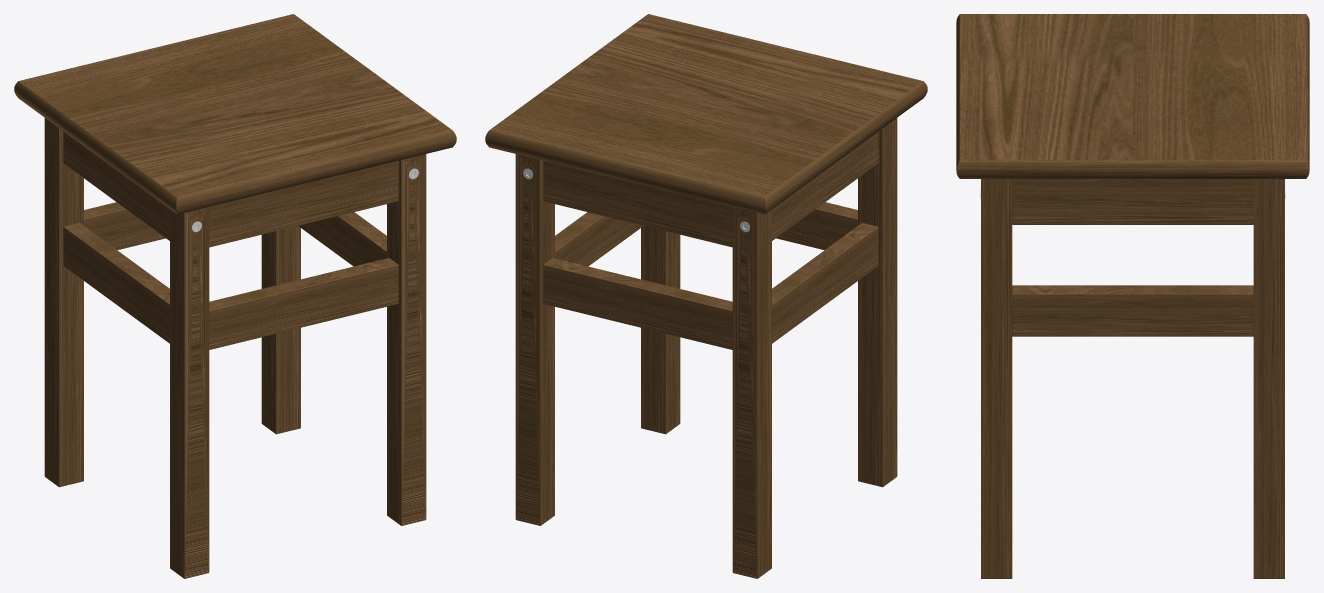
Rendered from Odvar__FBX_textured.fbx.
The picture shows the model from 3 angles, left to right: view 1: azimuth 30°, elevation 25°; view 2: azimuth 150°, elevation 25°; view 3: azimuth 270°, elevation 25°; orthographic projection. The views are drawn at different scales.
Parts seen in each view (by area): view 1: Seat, Leg__1, Leg__2, Leg__3, BottomCrossbar__1, TopCrossbar__1, Leg__4, BottomCrossbar__4, TopCrossbar__4, BottomCrossbar__2, BottomCrossbar__3; view 2: Seat, Leg__3, Leg__4, Leg__1, BottomCrossbar__3, TopCrossbar__3, Leg__2, BottomCrossbar__4, TopCrossbar__4, BottomCrossbar__2, BottomCrossbar__1; view 3: Seat, Leg__2, Leg__4, BottomCrossbar__2, TopCrossbar__2.
Boxes of the visible parts, box(x1,y1,x2,y2) form: Seat: box(14, 14, 456, 214); Leg__1: box(170, 207, 209, 578); Leg__2: box(387, 154, 426, 525); Leg__3: box(44, 118, 83, 487); BottomCrossbar__1: box(209, 258, 398, 349); TopCrossbar__1: box(209, 160, 398, 247); Leg__4: box(261, 226, 300, 434); BottomCrossbar__4: box(63, 223, 169, 343); TopCrossbar__4: box(63, 131, 169, 240); BottomCrossbar__2: box(298, 212, 386, 266); BottomCrossbar__3: box(84, 202, 165, 249); Seat: box(485, 14, 927, 214); Leg__3: box(732, 207, 771, 578); Leg__4: box(515, 154, 554, 525); Leg__1: box(858, 118, 897, 487); BottomCrossbar__3: box(543, 258, 732, 349); TopCrossbar__3: box(543, 160, 732, 247); Leg__2: box(641, 226, 680, 434); BottomCrossbar__4: box(772, 223, 878, 343); TopCrossbar__4: box(772, 131, 878, 240); BottomCrossbar__2: box(555, 212, 643, 266); BottomCrossbar__1: box(776, 202, 857, 249); Seat: box(956, 14, 1309, 178); Leg__2: box(981, 179, 1012, 578); Leg__4: box(1253, 179, 1284, 578); BottomCrossbar__2: box(1012, 285, 1253, 336); TopCrossbar__2: box(1012, 179, 1253, 224).
Size of the model in its own units: 33.66 by 45 by 33.66.
